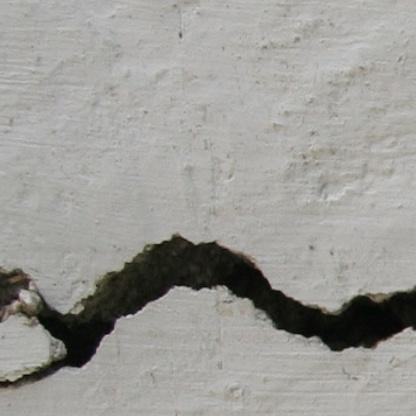Cracks: (0, 231, 416, 395)
